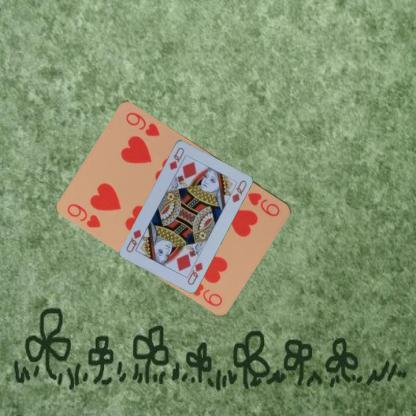9h: (64, 201, 103, 230), (245, 189, 282, 218)
Qd: (184, 255, 204, 286), (167, 144, 185, 171)
